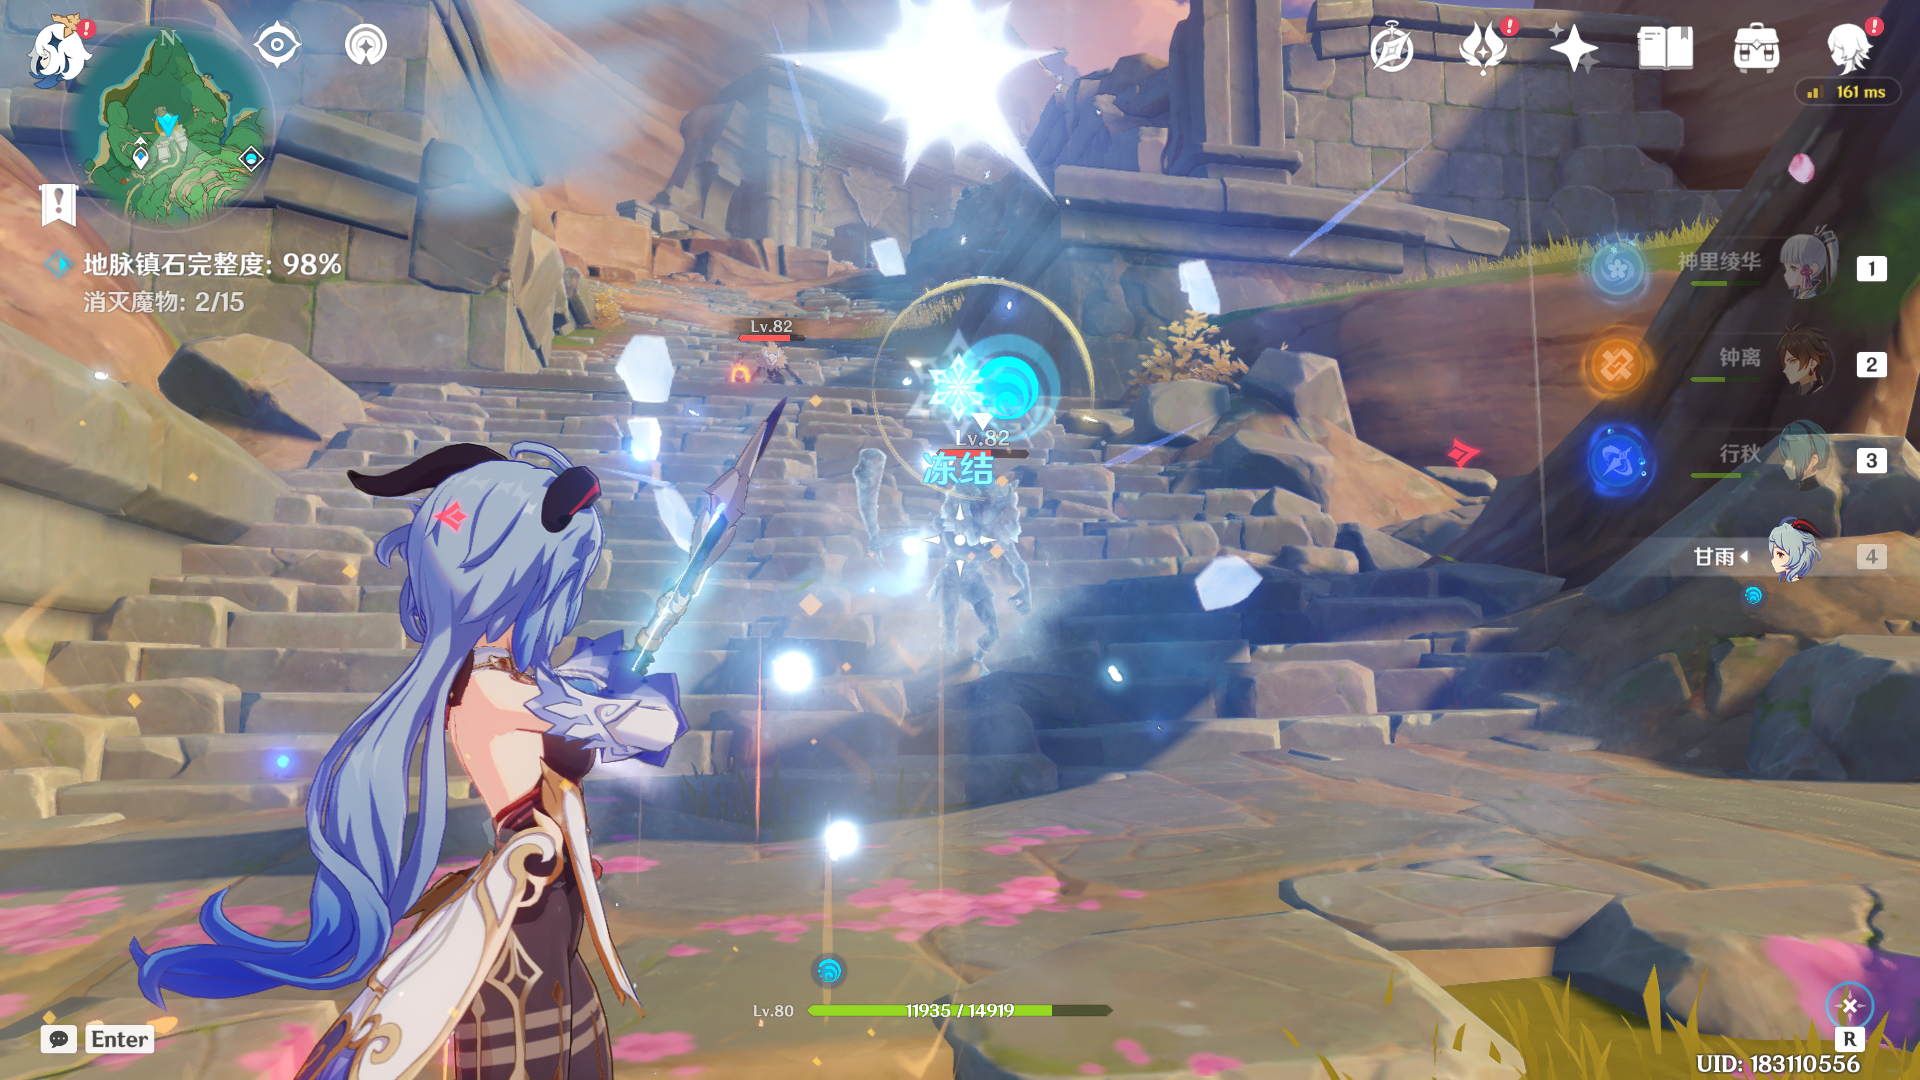character: (132, 396, 725, 1080)
hili: (858, 427, 1058, 698), (723, 310, 819, 402)
